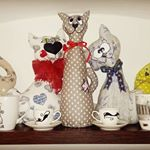cups: (90, 106, 129, 132)
